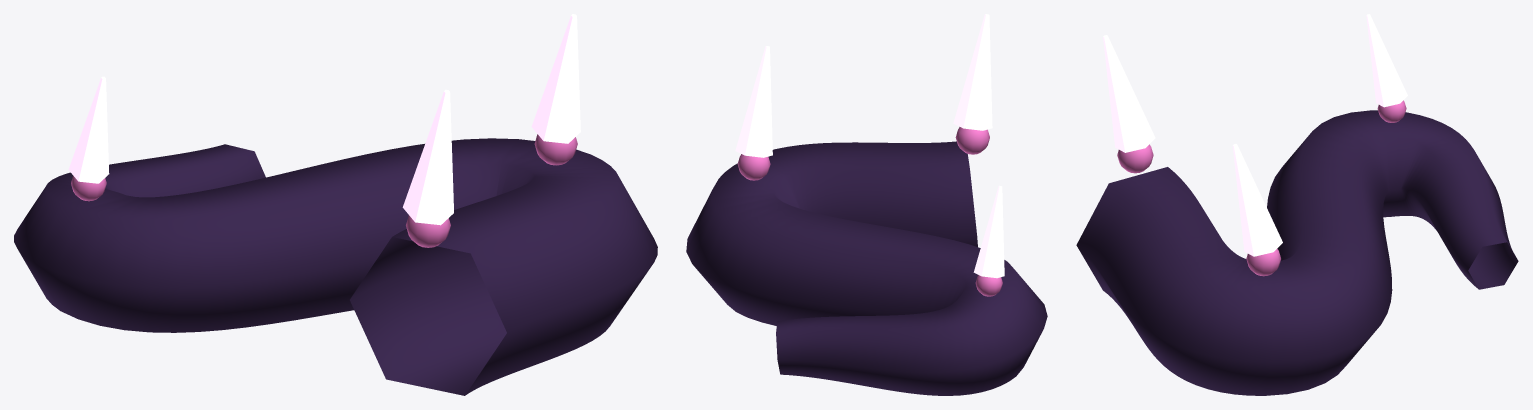
Rendered from SM_Keeper_Apep_Body_F12.fbx.
3 views of the same model, side by side, from view 1: azimuth 30°, elevation 25°; view 2: azimuth 150°, elevation 25°; view 3: azimuth 270°, elevation 25° (orthographic). The views are drawn at different scales.
Visible parts, largest first — view 1: SM_Keeper_Apep_Body_F12; view 2: SM_Keeper_Apep_Body_F12; view 3: SM_Keeper_Apep_Body_F12.
Boxes of the visible parts, left/top/right/bottom form: SM_Keeper_Apep_Body_F12: left=14, top=14, right=657, bottom=395; SM_Keeper_Apep_Body_F12: left=686, top=14, right=1047, bottom=395; SM_Keeper_Apep_Body_F12: left=1076, top=14, right=1518, bottom=395.
Size of the model in its own units: 7.14 by 4.37 by 6.55.
